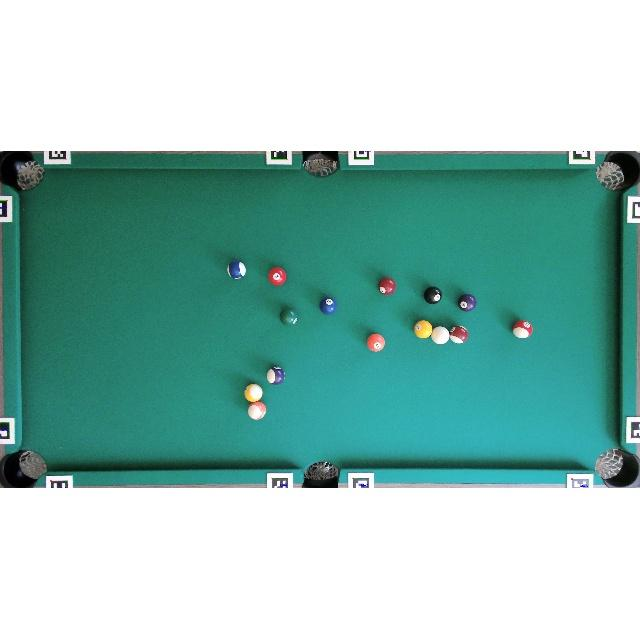cue ball: (432, 326, 449, 344)
other: (244, 383, 264, 403), (512, 320, 533, 339), (227, 260, 246, 280), (320, 296, 338, 316), (268, 266, 286, 286), (248, 402, 266, 421), (266, 366, 284, 385), (449, 326, 468, 344), (378, 277, 396, 295), (280, 308, 298, 326), (458, 294, 476, 312), (367, 334, 385, 352), (414, 320, 432, 338), (424, 287, 442, 304)
